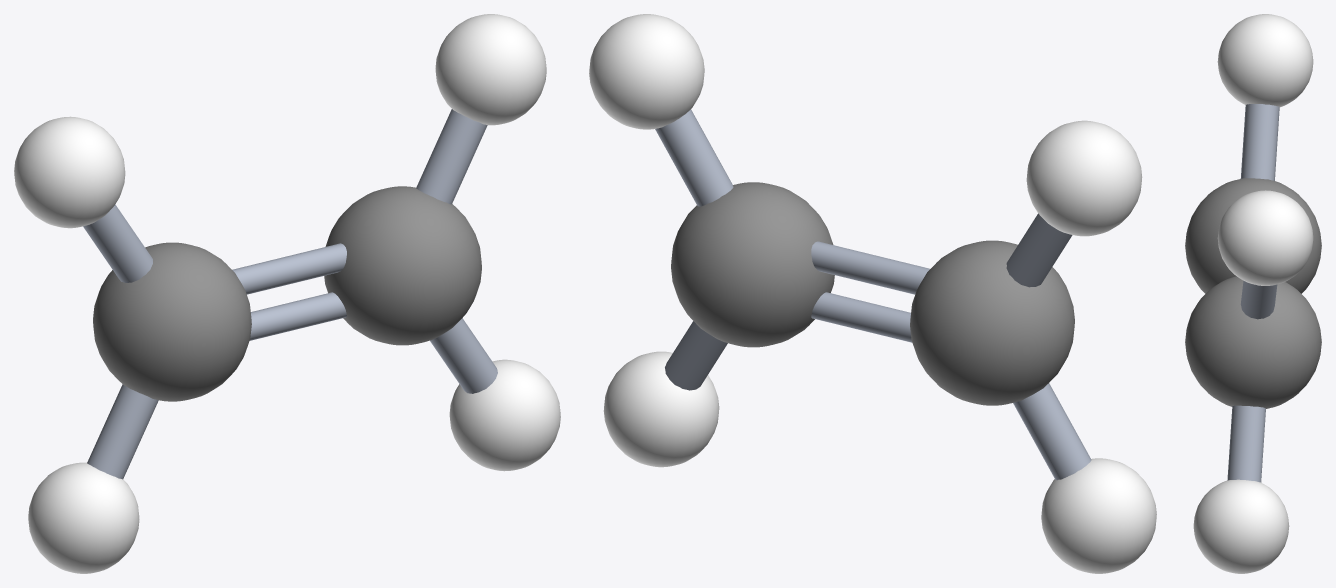
The model's file is ethylene.glb.
The picture shows the model from 3 angles, left to right: view 1: azimuth 30°, elevation 25°; view 2: azimuth 150°, elevation 25°; view 3: azimuth 270°, elevation 25°; orthographic projection. The views are drawn at different scales.
Parts seen in each view (by area): view 1: H (×4), C (×2), bond (×6); view 2: H (×4), C (×2), bond (×6); view 3: H (×3), C (×2), bond (×3).
Part boxes in pixels (left/top/right/bottom): H (×4): left=14, top=14, right=560, bottom=573; C (×2): left=93, top=186, right=481, bottom=401; bond (×6): left=83, top=109, right=497, bottom=479; H (×4): left=589, top=14, right=1156, bottom=573; C (×2): left=671, top=182, right=1074, bottom=405; bond (×6): left=655, top=109, right=1091, bottom=480; H (×3): left=1193, top=14, right=1313, bottom=573; C (×2): left=1185, top=178, right=1321, bottom=408; bond (×3): left=1227, top=104, right=1279, bottom=482.
Size of the model in its own units: 0.22 by 0.1772 by 0.0586.
